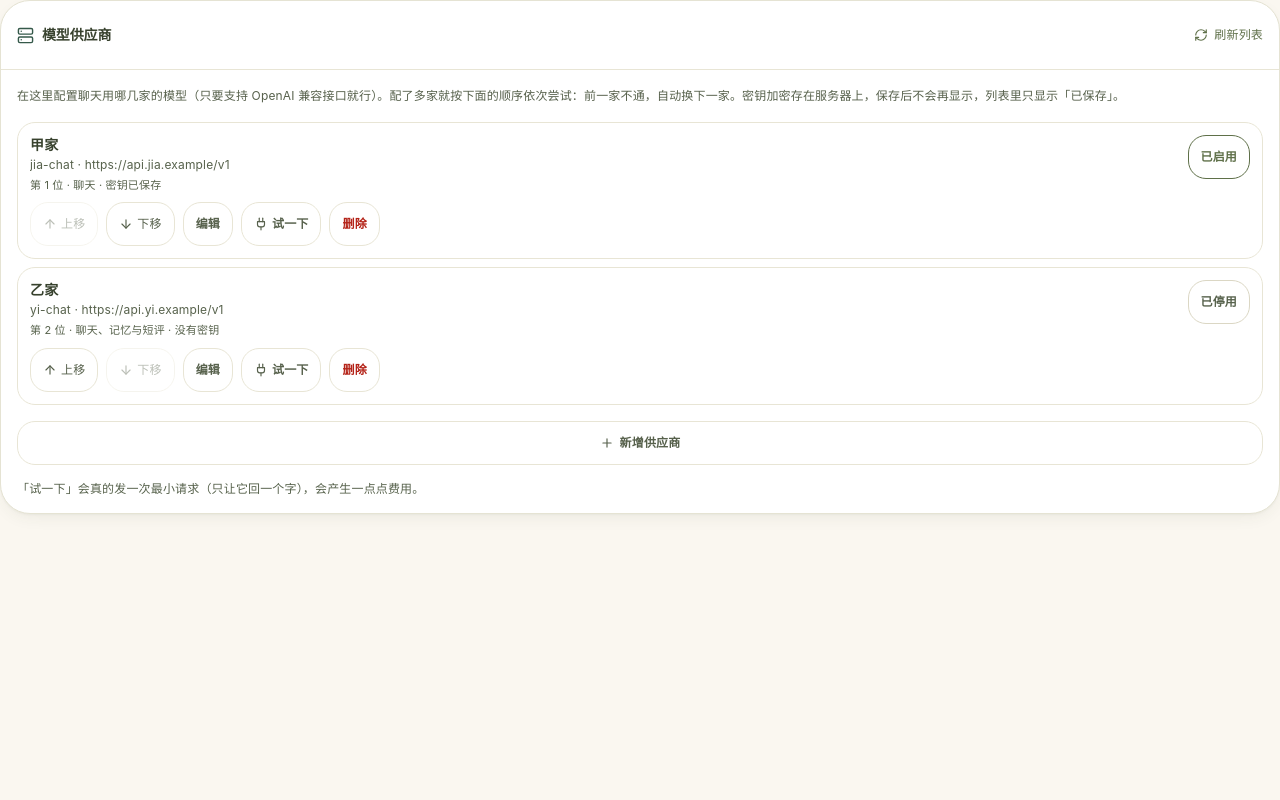
Scenario: ModelProviderSettings › 试一下：通了给出模型与用时，不通如实说原因
Expected: the text "甲家" is shown, [30,136,58,152]
Step 1. Click the button with aria-label "试一下：甲家" → [281, 224], box [241,202,322,246]
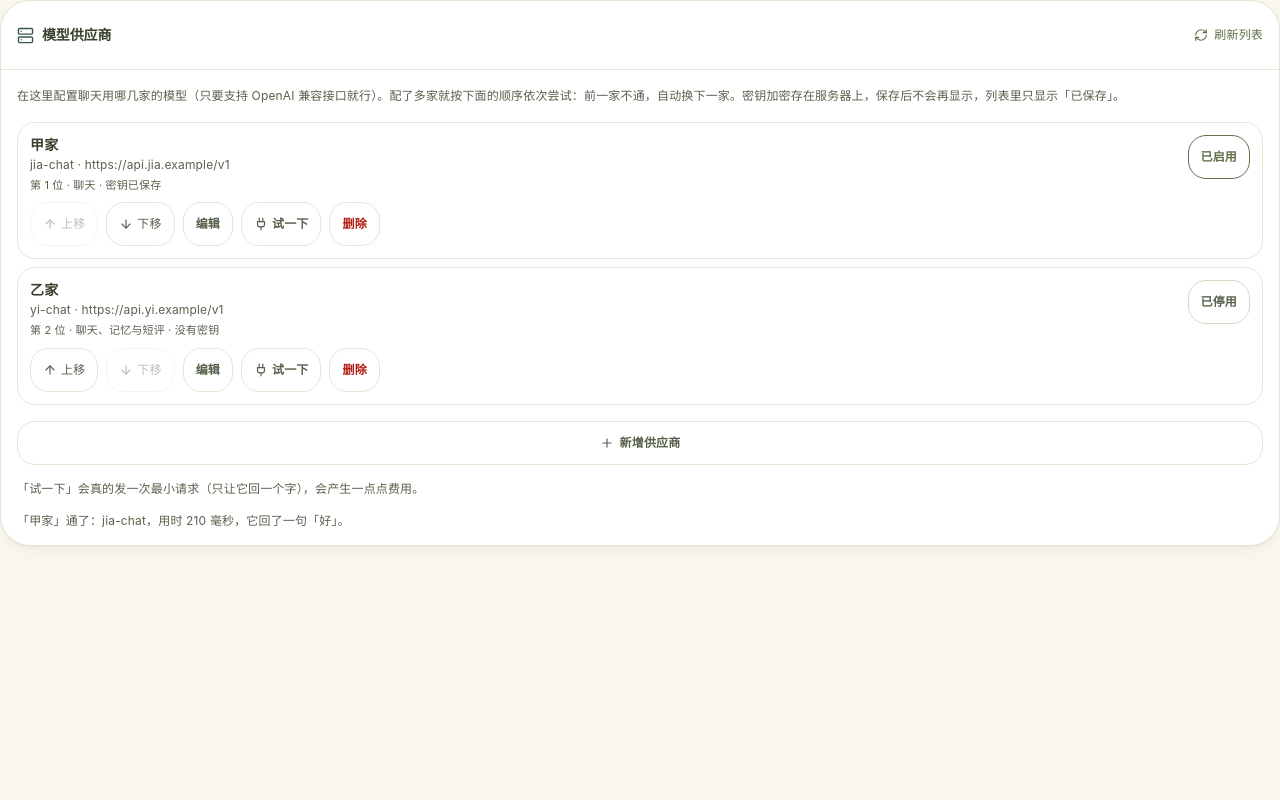
Now the text "「甲家」通了：jia-chat，用时 210 毫秒，它回了一句「好」。" is shown, box [17,513,350,528]
Step 2. Click the button with aria-label "试一下：甲家" → [281, 224], box [241,202,322,246]
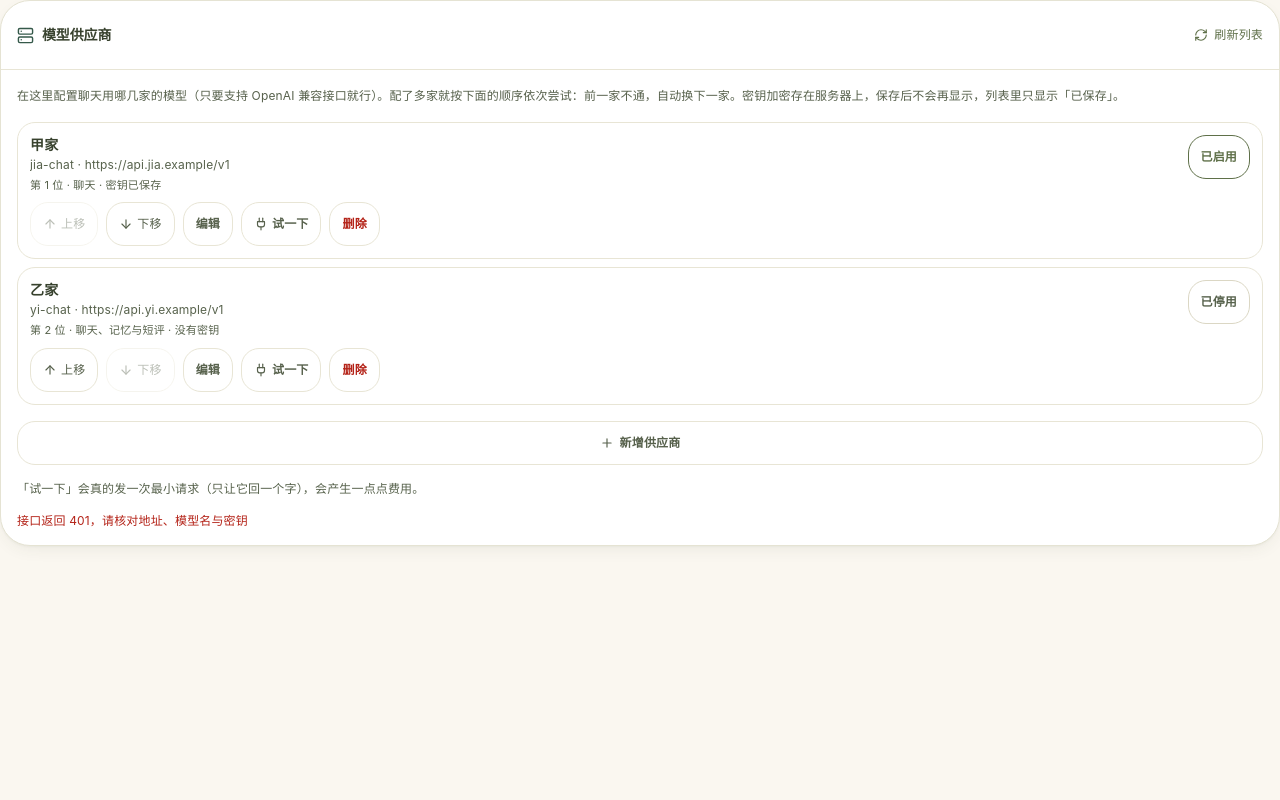
Now the message reads "接口返回 401，请核对地址、模型名与密钥", box [17,513,248,528]
